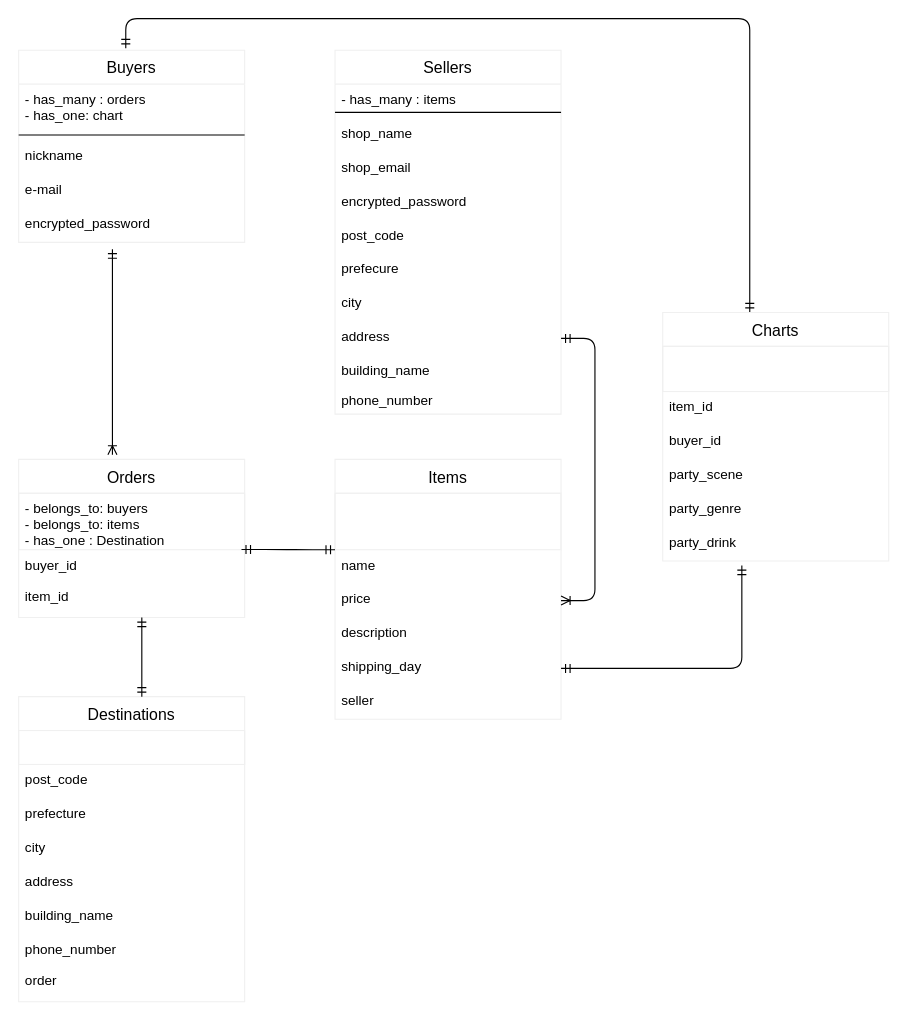
The diagram is 907 pixels wide and 1020 high, and some of its shapes have lost their labels. Each missing label, with the centre of its shape:
"- belongs : items - belongs : buyers" goes at [775,368].
"- belongs_to : Order" goes at [131,746].
"- belongs_to: sellers - has_one : order - has_one : chart" goes at [447,521].
